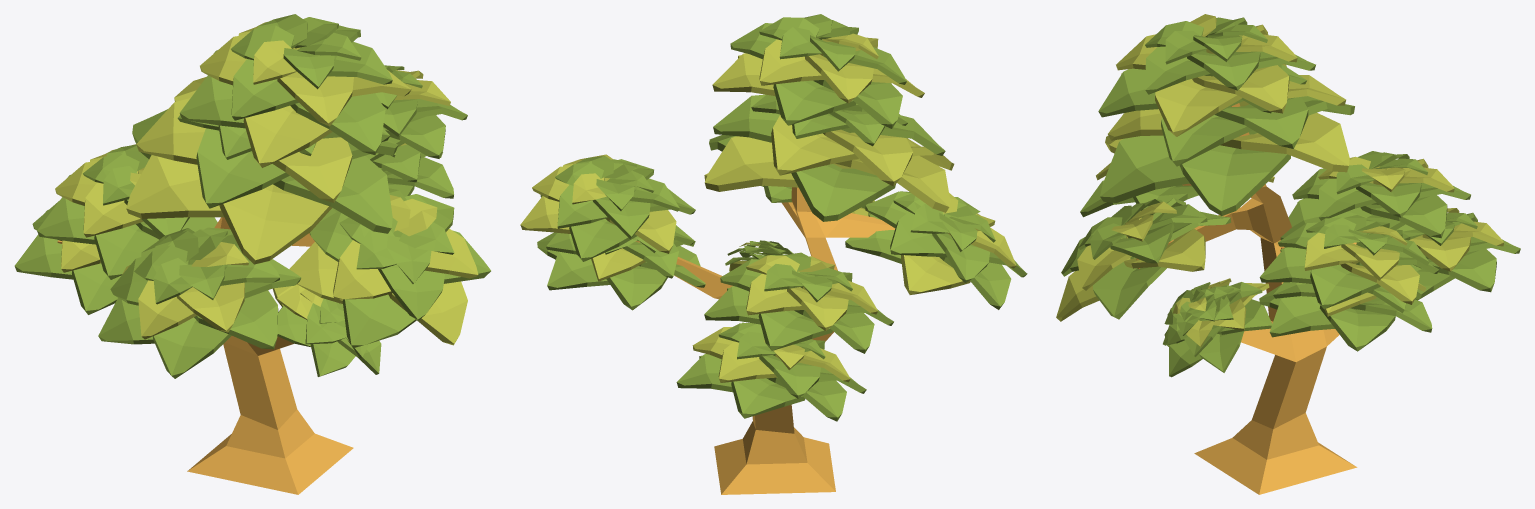
The model's file is TreeFruitL3-C.fbx.
3 renders of one model, left to right at view 1: azimuth 30°, elevation 25°; view 2: azimuth 150°, elevation 25°; view 3: azimuth 270°, elevation 25°, orthographic. The views are drawn at different scales.
Parts seen in each view (by area): view 1: Plane.001; view 2: Plane.001; view 3: Plane.001.
Part boxes in pixels (left/top/right/bottom): Plane.001: left=14, top=14, right=490, bottom=494; Plane.001: left=520, top=14, right=1027, bottom=494; Plane.001: left=1056, top=14, right=1520, bottom=494.
Bounding box in the file's own units: 963 × 976 × 951.
